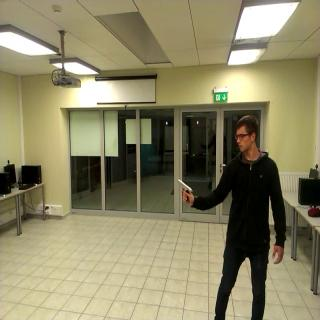gun: (172, 175, 194, 204)
